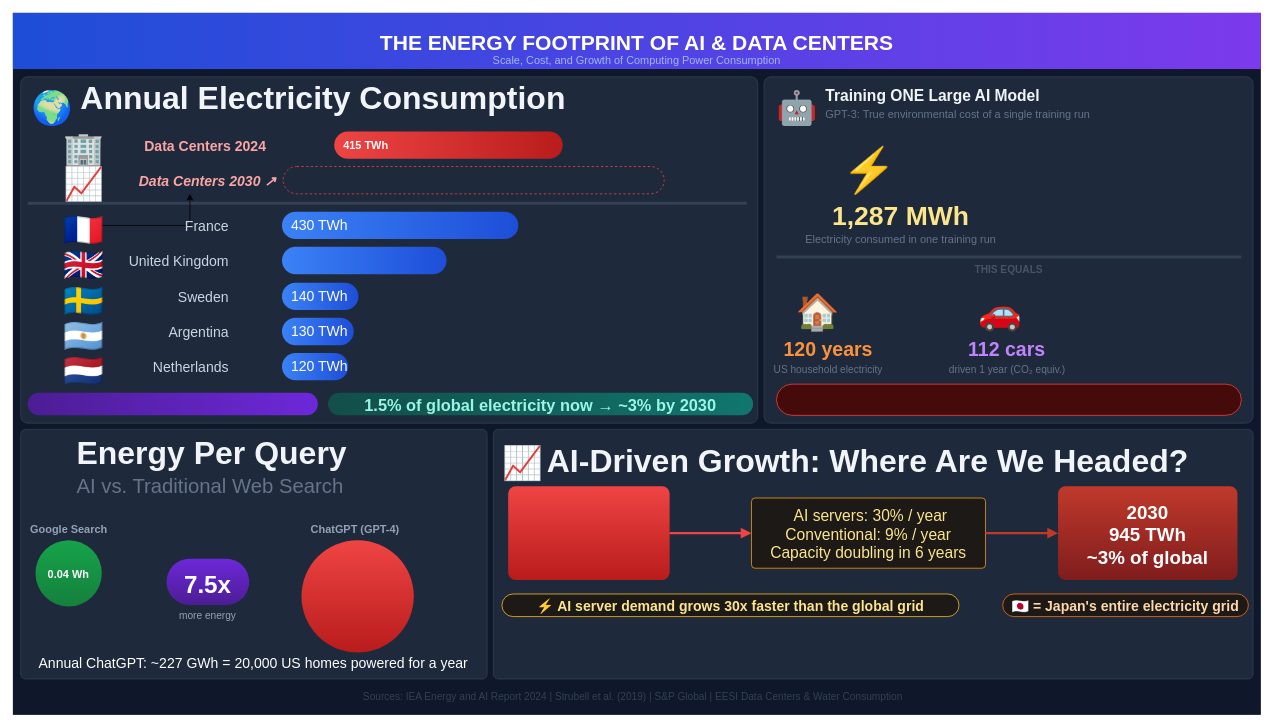
Image size: 1274x728. Some labels were removed from this diagram. Each missing label, with the centre of its shape:
"0.30 Wh" goes at pixel 357 596.
"2024 415 TWh 1.5% of global" goes at pixel 588 533.
"300 TWh" goes at pixel 364 260.
"945 TWh (projected — capacity nearly doubles)" goes at pixel 473 180.
"Data Centers ≈ France's entire grid" goes at pixel 172 403.
"🏭 552 metric tons CO₂ equivalent" goes at pixel 1008 399.
